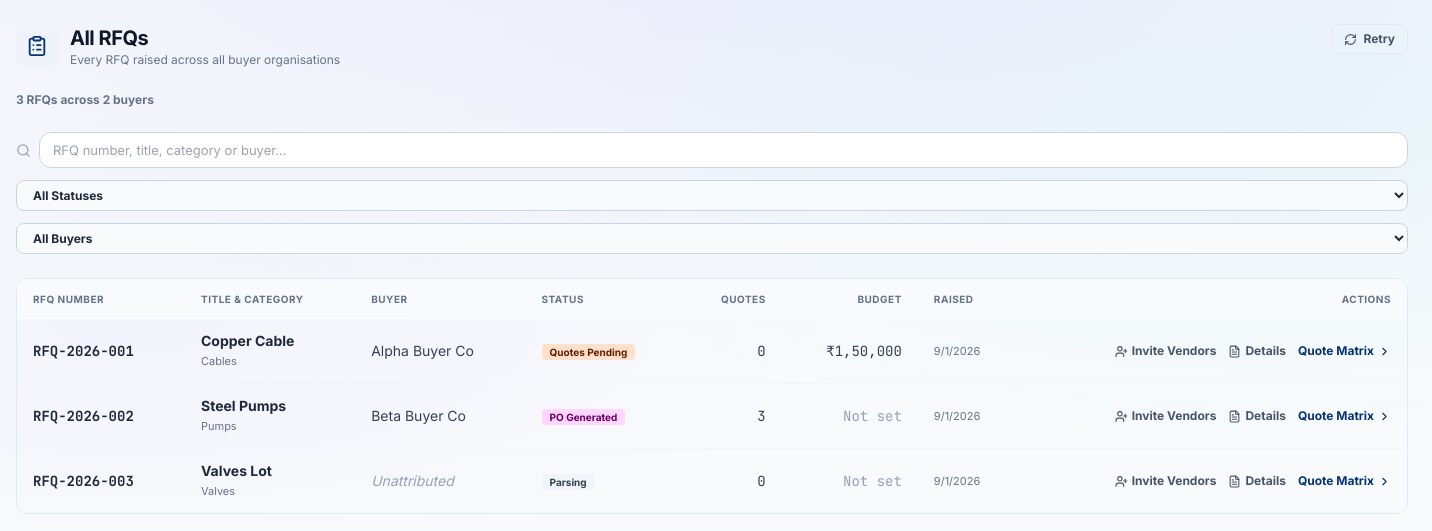
it: AllRFQsConsole › filters by free-text search
The width and height of the screenshot is (1432, 531).
expect the text "Copper Cable" is shown: met, box [201,332,294,349]
Type "pumps" into the field named "Search" at (724, 150), box [39,132,1408,168]
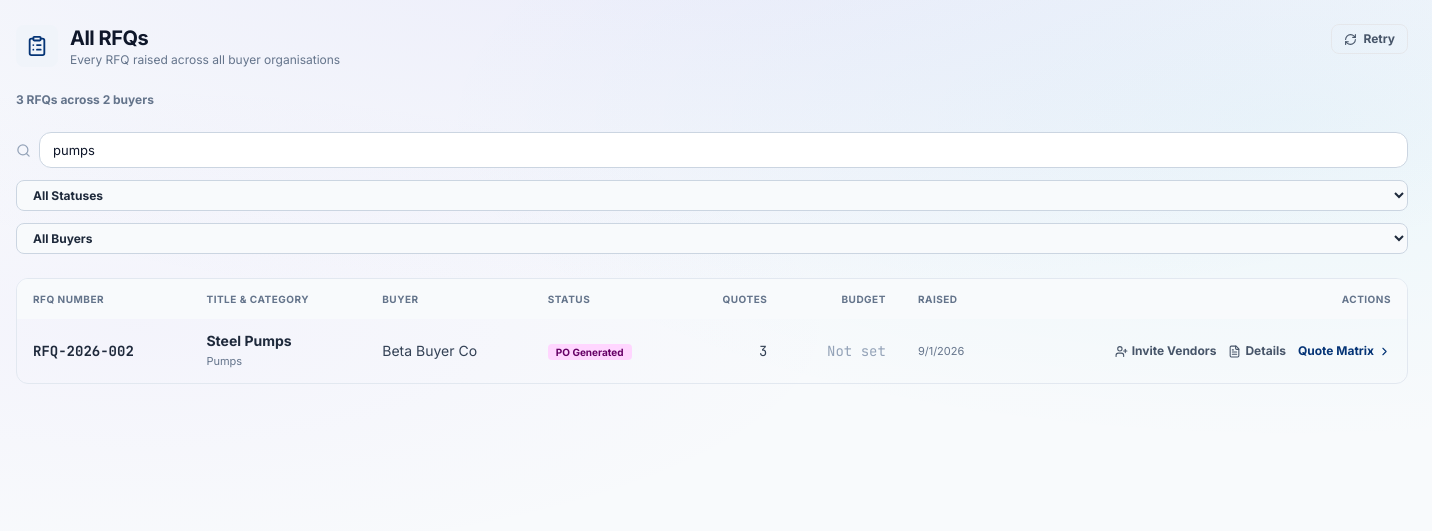
expect the text "Steel Pumps" is shown: met, box [206,332,292,349]
expect the text "Copper Cable" is gone: met
